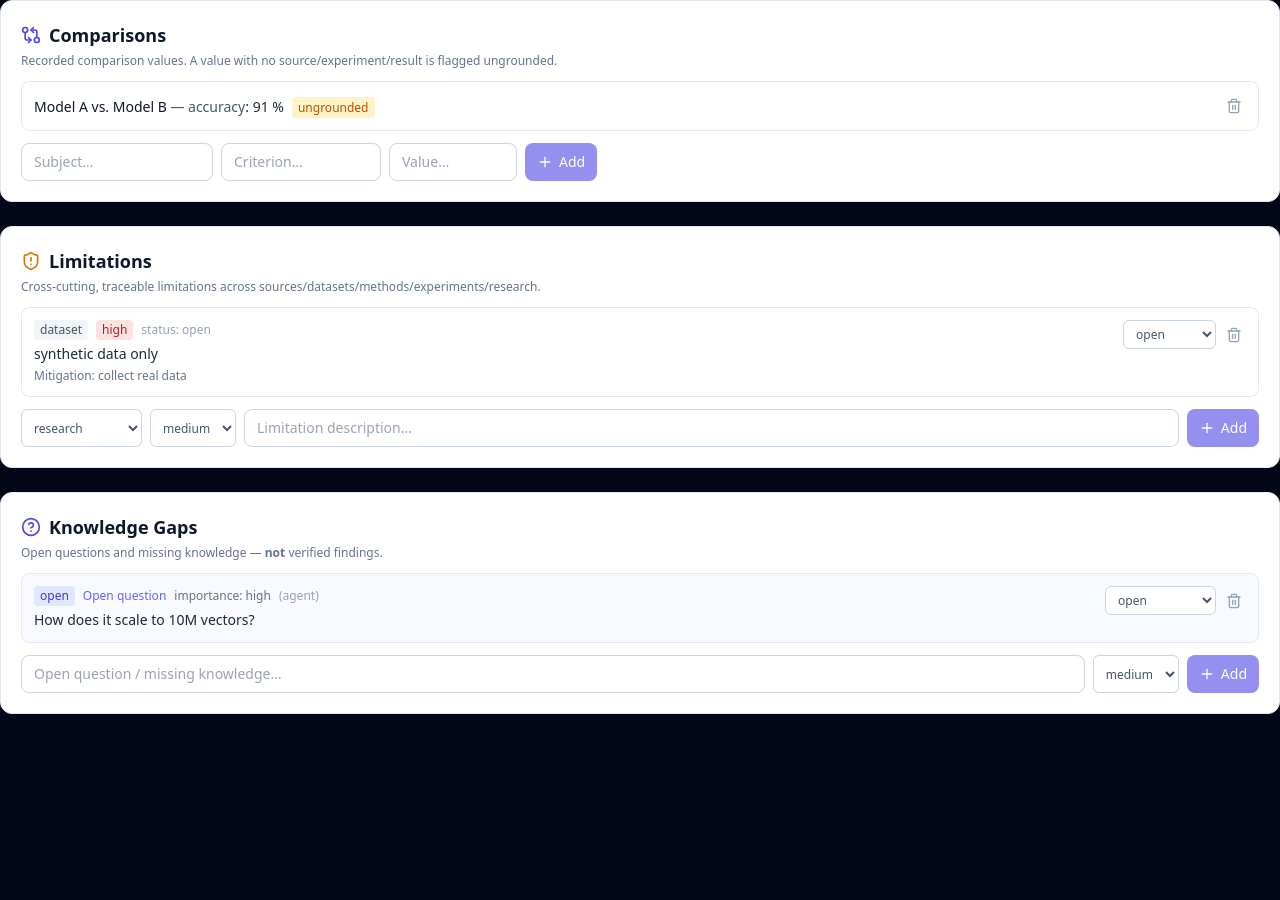
it: SynthesisPanel › creates a limitation
This screenshot has width=1280, height=900.
Expected: the text "synthetic data only" is shown, [34,344,158,363]
Type "small sample" into the field with placeholder "Limitation description…" at x=711, y=428, box [244,409,1179,447]
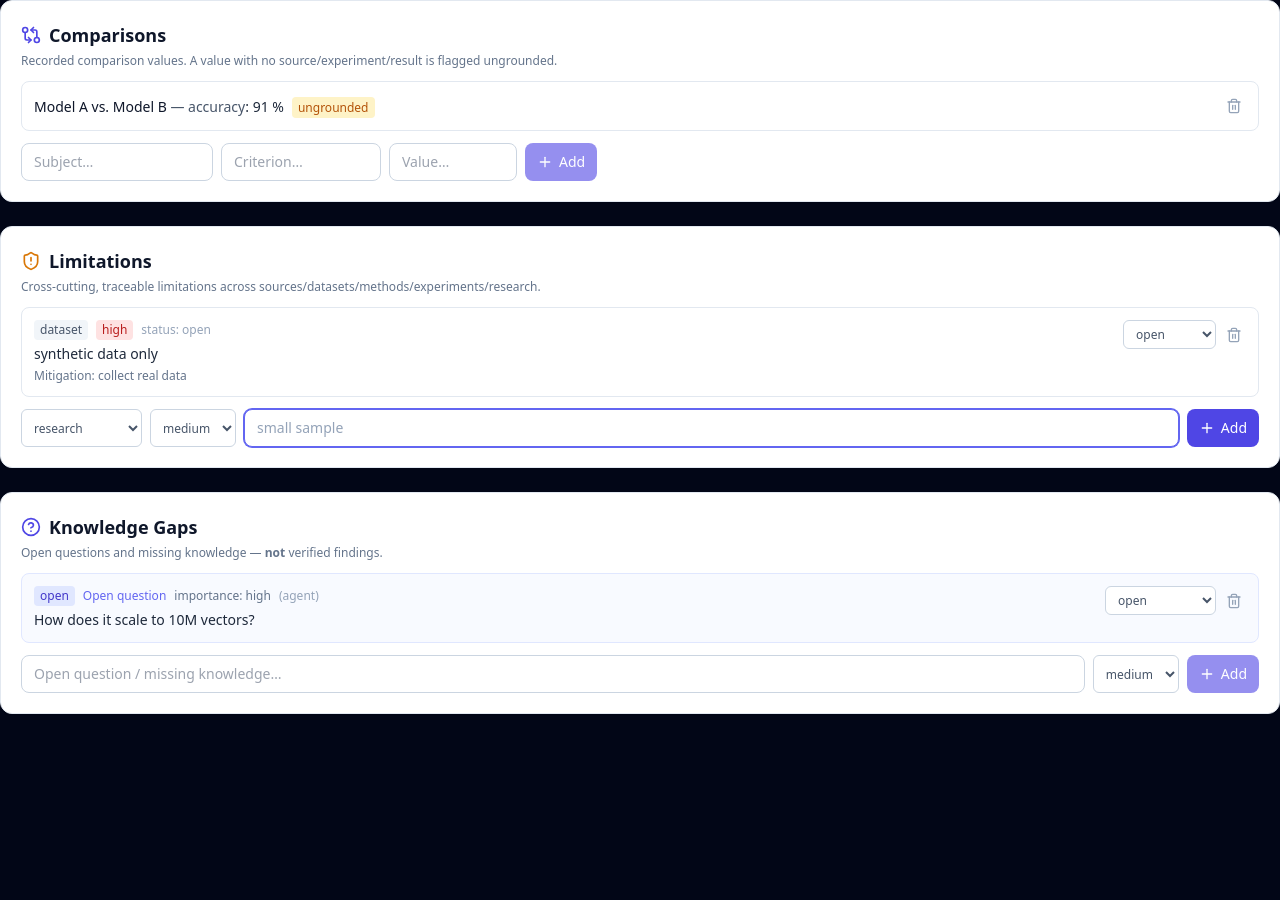
// The Limitation adder's Add button is the 2nd (comparison adder is 1st).
Click the 2nd button "Add" at x=1223, y=428, box [1187,409,1259,447]
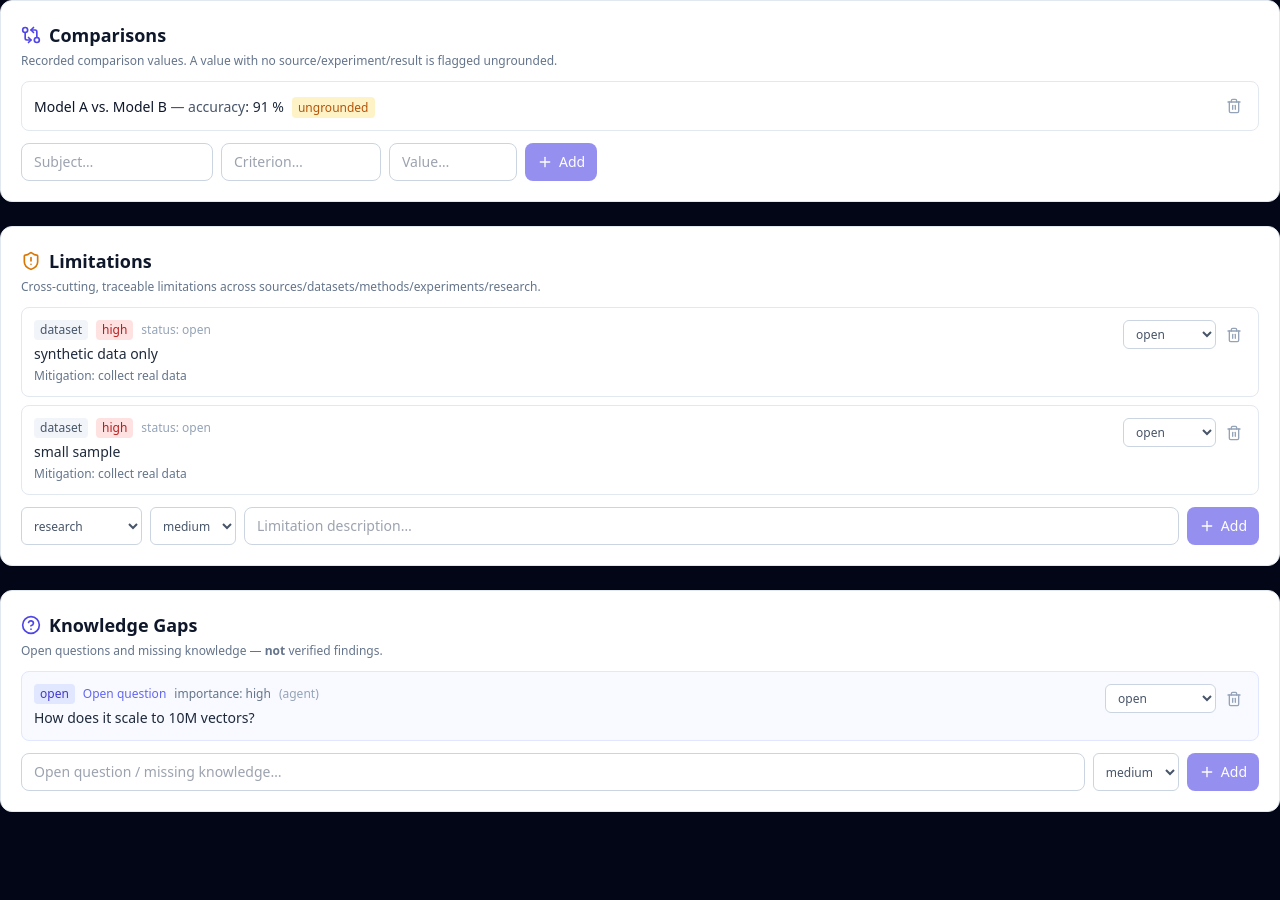
Expected: the text "small sample" is shown, [34,442,120,461]
